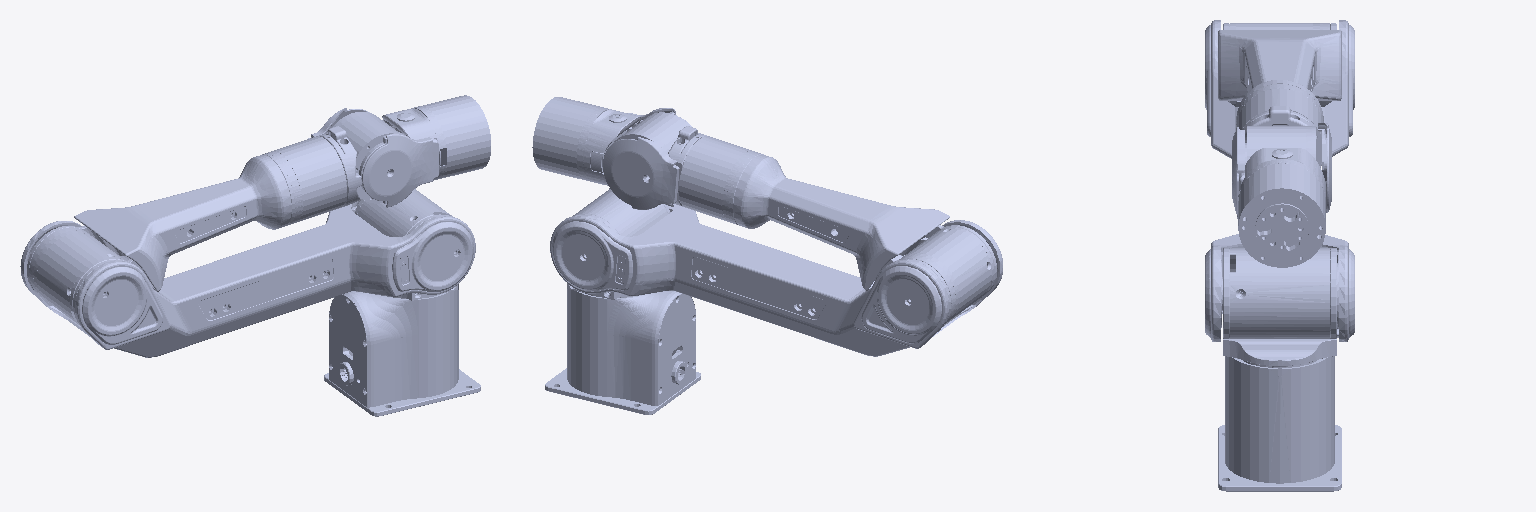
The robot description file, URDF, robot "piper_description":
<?xml version="1.0" encoding="utf-8"?>
<robot
  name="piper_description">
  <link
    name="base_link">
    <!-- <inertial>
      <origin
        xyz="-0.00973928490005031 1.8312708928633E-06 0.0410140167677137"
        rpy="0 0 0" />
      <mass
        value="0.162352169522719" />
      <inertia
        ixx="0.000226592553127906"
        ixy="-7.33974356968813E-08"
        ixz="2.13221970218123E-06"
        iyy="0.000269447877479622"
        iyz="8.15167478685076E-09"
        izz="0.000222318286704" />
    </inertial> -->
    <visual>
      <origin
        xyz="0 0 0"
        rpy="0 0 0" />
      <geometry>
        <mesh
          filename="package://piper_description/meshes/base_link.STL" />
      </geometry>
      <material
        name="">
        <color
          rgba="0.792156862745098 0.819607843137255 0.933333333333333 1" />
      </material>
    </visual>
    <collision>
      <origin
        xyz="0 0 0"
        rpy="0 0 0" />
      <geometry>
        <mesh
          filename="package://piper_description/meshes/base_link.STL" />
      </geometry>
    </collision>
  </link>
  <link
    name="link1">
    <inertial>
      <origin
        xyz="0.00131676031927021 0.000310288842008364 -0.00922874512303438"
        rpy="0 0 0" />
      <mass
        value="0.0978679932242825" />
      <inertia
        ixx="7.76684558296781E-05"
        ixy="1.09084650459916E-07"
        ixz="-1.97480532432411E-06"
        iyy="9.24967780161546E-05"
        iyz="9.91284646834672E-07"
        izz="8.24589062407806E-05" />
    </inertial>
    <visual>
      <origin
        xyz="0 0 0"
        rpy="0 0 0" />
      <geometry>
        <mesh
          filename="package://piper_description/meshes/link1.STL" />
      </geometry>
      <material
        name="">
        <color
          rgba="0.792156862745098 0.819607843137255 0.933333333333333 1" />
      </material>
    </visual>
    <collision>
      <origin
        xyz="0 0 0"
        rpy="0 0 0" />
      <geometry>
        <mesh
          filename="package://piper_description/meshes/link1.STL" />
      </geometry>
    </collision>
  </link>
  <joint
    name="joint1"
    type="revolute">
    <origin
      xyz="0 0 0.123"
      rpy="0 0 -1.5708" />
    <parent
      link="base_link" />
    <child
      link="link1" />
    <axis
      xyz="0 0 1" />
    <limit
      lower="-2.618"
      upper="2.618"
      effort="100"
      velocity="0" />
  </joint>
  <link
    name="link2">
    <inertial>
      <origin
        xyz="0.147615838821413 -0.0174259998251393 0.00175952516190707"
        rpy="0 0 0" />
      <mass
        value="0.289571136953082" />
      <inertia
        ixx="0.000150112628108228"
        ixy="8.58974959950769E-05"
        ixz="-1.07428153464285E-06"
        iyy="0.00172585302855383"
        iyz="-9.93704792239686E-07"
        izz="0.00177445942914759" />
    </inertial>
    <visual>
      <origin
        xyz="0 0 0"
        rpy="0 0 0" />
      <geometry>
        <mesh
          filename="package://piper_description/meshes/link2.STL" />
      </geometry>
      <material
        name="">
        <color
          rgba="0.792156862745098 0.819607843137255 0.933333333333333 1" />
      </material>
    </visual>
    <collision>
      <origin
        xyz="0 0 0"
        rpy="0 0 0" />
      <geometry>
        <mesh
          filename="package://piper_description/meshes/link2.STL" />
      </geometry>
    </collision>
  </link>
  <joint
    name="joint2"
    type="revolute">
    <origin
      xyz="0 0 0"
      rpy="1.5708 -0.10095 -1.5708" />
    <parent
      link="link1" />
    <child
      link="link2" />
    <axis
      xyz="0 0 1" />
    <limit
      lower="0"
      upper="3.14"
      effort="100"
      velocity="1" />
  </joint>
  <link
    name="link3">
    <inertial>
      <origin
        xyz="0.0156727246030052 0.104466514905741 0.000508486764144372"
        rpy="0 0 0" />
      <mass
        value="0.290583247455324" />
      <inertia
        ixx="0.000221686352136266"
        ixy="-7.57426543992343E-06"
        ixz="-6.3700062772173E-07"
        iyy="0.000100859162015934"
        iyz="-8.16202696860781E-07"
        izz="0.000241839316548946" />
    </inertial>
    <visual>
      <origin
        xyz="0 0 0"
        rpy="0 0 0" />
      <geometry>
        <mesh
          filename="package://piper_description/meshes/link3.STL" />
      </geometry>
      <material
        name="">
        <color
          rgba="0.792156862745098 0.819607843137255 0.933333333333333 1" />
      </material>
    </visual>
    <collision>
      <origin
        xyz="0 0 0"
        rpy="0 0 0" />
      <geometry>
        <mesh
          filename="package://piper_description/meshes/link3.STL" />
      </geometry>
    </collision>
  </link>
  <joint
    name="joint3"
    type="revolute">
    <origin
      xyz="0.28503 0 0"
      rpy="0 0 1.3826" />
    <parent
      link="link2" />
    <child
      link="link3" />
    <axis
      xyz="0 0 1" />
    <limit
      lower="-2.967"
      upper="0"
      effort="100"
      velocity="1" />
  </joint>
  <link
    name="link4">
    <inertial>
      <origin
        xyz="0.000276464622388145 -0.00102803669324853 -0.00472830700561612"
        rpy="0 0 0" />
      <mass
        value="0.127087348341362" />
      <inertia
        ixx="3.82011730423098E-05"
        ixy="-4.92358351033589E-08"
        ixz="4.89589432983109E-08"
        iyy="4.87048555222491E-05"
        iyz="6.70802942486707E-08"
        izz="4.10592077565155E-05" />
    </inertial>
    <visual>
      <origin
        xyz="0 0 0"
        rpy="0 0 0" />
      <geometry>
        <mesh
          filename="package://piper_description/meshes/link4.STL" />
      </geometry>
      <material
        name="">
        <color
          rgba="0.792156862745098 0.819607843137255 0.933333333333333 1" />
      </material>
    </visual>
    <collision>
      <origin
        xyz="0 0 0"
        rpy="0 0 0" />
      <geometry>
        <mesh
          filename="package://piper_description/meshes/link4.STL" />
      </geometry>
    </collision>
  </link>
  <joint
    name="joint4"
    type="revolute">
    <origin
      xyz="0.021984 0.25075 0"
      rpy="-1.5708 0 0" />
    <parent
      link="link3" />
    <child
      link="link4" />
    <axis
      xyz="0 0 -1" />
    <limit
      lower="-1.832"
      upper="1.832"
      effort="100"
      velocity="1" />
  </joint>
  <link
    name="link5">
    <inertial>
      <origin
        xyz="8.82261259100015E-05 0.056682908434204 -0.00196119077436732"
        rpy="0 0 0" />
      <mass
        value="0.144711209371719" />
      <inertia
        ixx="4.39644269159173E-05"
        ixy="-3.59214840853815E-08"
        ixz="-1.89785003257649E-08"
        iyy="5.63173857792457E-05"
        iyz="-2.15407623722543E-07"
        izz="4.88713595021005E-05" />
    </inertial>
    <visual>
      <origin
        xyz="0 0 0"
        rpy="0 0 0" />
      <geometry>
        <mesh
          filename="package://piper_description/meshes/link5.STL" />
      </geometry>
      <material
        name="">
        <color
          rgba="0.792156862745098 0.819607843137255 0.933333333333333 1" />
      </material>
    </visual>
    <collision>
      <origin
        xyz="0 0 0"
        rpy="0 0 0" />
      <geometry>
        <mesh
          filename="package://piper_description/meshes/link5.STL" />
      </geometry>
    </collision>
  </link>
  <joint
    name="joint5"
    type="revolute">
    <origin
      xyz="0 0 0"
      rpy="1.5708 -0.087266 0" />
    <parent
      link="link4" />
    <child
      link="link5" />
    <axis
      xyz="0 0 1" />
    <limit
      lower="-1.22"
      upper="1.22"
      effort="100"
      velocity="1" />
  </joint>
  <link
    name="link6">
    <inertial>
      <origin
        xyz="9.41121070072333E-09 0.000341209775988838 0.0342122921883722"
        rpy="0 0 0" />
      <mass
        value="0.150196458571266" />
      <inertia
        ixx="4.31750564711759E-05"
        ixy="-2.21295720427027E-08"
        ixz="-3.27825836857102E-12"
        iyy="9.99756357365307E-05"
        iyz="1.10337380549335E-07"
        izz="0.000118282295533688" />
    </inertial>
    <visual>
      <origin
        xyz="0 0 0"
        rpy="0 0 0" />
      <geometry>
        <mesh
          filename="package://piper_description/meshes/link6.STL" />
      </geometry>
      <material
        name="">
        <color
          rgba="0.792156862745098 0.819607843137255 0.933333333333333 1" />
      </material>
    </visual>
    <collision>
      <origin
        xyz="0 0 0"
        rpy="0 0 0" />
      <geometry>
        <mesh
          filename="package://piper_description/meshes/link6.STL" />
      </geometry>
    </collision>
  </link>
  <joint
    name="joint6"
    type="revolute">
    <origin
      xyz="0 0.091 0.0014165"
      rpy="-1.5708 -1.5708 0" />
    <parent
      link="link5" />
    <child
      link="link6" />
    <axis
      xyz="0 0 -1" />
    <limit
      lower="-3.14"
      upper="3.14"
      effort="100"
      velocity="1" />
  </joint>

  <link
    name="link7">
    <inertial>
      <origin
        xyz="-0.000277795893713934 -0.046767350270289 -0.00921029791141448"
        rpy="0 0 0" />
      <mass
        value="0.0264822500394006" />
      <inertia
        ixx="9.99782519244544E-06"
        ixy="-1.57547595978589E-07"
        ixz="-2.71355785017816E-08"
        iyy="6.17952364356547E-06"
        iyz="-1.58939504838734E-06"
        izz="1.42102253390315E-05" />
    </inertial>
    <visual>
      <origin
        xyz="0 0 0"
        rpy="0 0 0" />
      <geometry>
        <mesh
          filename="package://piper_description/meshes/link7.STL" />
      </geometry>
      <material
        name="">
        <color
          rgba="0.792156862745098 0.819607843137255 0.933333333333333 1" />
      </material>
    </visual>
    <collision>
      <origin
        xyz="0 0 0"
        rpy="0 0 0" />
      <geometry>
        <mesh
          filename="package://piper_description/meshes/link7.STL" />
      </geometry>
    </collision>
  </link>
  <joint
    name="joint7"
    type="prismatic">
    <origin
      xyz="0 0 0.13503"
      rpy="1.5708 0 1.5708" />
    <parent
      link="link6" />
    <child
      link="link7" />
    <axis
      xyz="0 0 -1" />
    <limit
      lower="-0.038"
      upper="0"
      effort="100"
      velocity="1" />
  </joint>

  <link
    name="link8">
    <inertial>
      <origin
        xyz="0.000277795911672651 0.0467673513153836 -0.00921029799058583"
        rpy="0 0 0" />
      <mass
        value="0.0264822490707451" />
      <inertia
        ixx="9.99782474142963E-06"
        ixy="-1.57547666236405E-07"
        ixz="2.71355834243046E-08"
        iyy="6.17952362333486E-06"
        iyz="1.58939503259658E-06"
        izz="1.42102248648757E-05" />
    </inertial>
    <visual>
      <origin
        xyz="0 0 0"
        rpy="0 0 0" />
      <geometry>
        <mesh
          filename="package://piper_description/meshes/link8.STL" />
      </geometry>
      <material
        name="">
        <color
          rgba="0.792156862745098 0.819607843137255 0.933333333333333 1" />
      </material>
    </visual>
    <collision>
      <origin
        xyz="0 0 0"
        rpy="0 0 0" />
      <geometry>
        <mesh
          filename="package://piper_description/meshes/link8.STL" />
      </geometry>
    </collision>
  </link>
  <joint
    name="joint8"
    type="prismatic">
    <origin
      xyz="0 0 0.13503"
      rpy="-1.5708 0 1.5708" />
    <parent
      link="link6" />
    <child
      link="link8" />
    <axis
      xyz="0 0 1" />
    <limit
      lower="0"
      upper="0.038"
      effort="100"
      velocity="1" />
  </joint>
  <!-- <link
    name="link8">
    <inertial>
      <origin
        xyz="-0.000277795893713934 -0.046767350270289 -0.00921029791141448"
        rpy="0 0 0" />
      <mass
        value="0.0264822500394006" />
      <inertia
        ixx="9.99782519244544E-06"
        ixy="-1.57547595978589E-07"
        ixz="-2.71355785017816E-08"
        iyy="6.17952364356547E-06"
        iyz="-1.58939504838734E-06"
        izz="1.42102253390315E-05" />
    </inertial>
    <visual>
      <origin
        xyz="0 0 0"
        rpy="0 0 0" />
      <geometry>
        <mesh
          filename="package://piper_description/meshes/link8.STL" />
      </geometry>
      <material
        name="">
        <color
          rgba="0.792156862745098 0.819607843137255 0.933333333333333 1" />
      </material>
    </visual>
    <collision>
      <origin
        xyz="0 0 0"
        rpy="0 0 0" />
      <geometry>
        <mesh
          filename="package://piper_description/meshes/link8.STL" />
      </geometry>
    </collision>
  </link>
  <joint
    name="joint8"
    type="prismatic">
    <origin
      xyz="-0.037167 0 0.13503"
      rpy="1.5708 0 1.5708" />
    <parent
      link="link6" />
    <child
      link="link8" />
    <axis
      xyz="0 0 -1" />
    <limit
      lower="-0.038"
      upper="0"
      effort="100"
      velocity="1" />
  </joint> -->
</robot>

--- Facts derived from the render (not from the file) ---
Views: 3 orthographic renders of the robot side by side, from view 1: azimuth 30°, elevation 25°; view 2: azimuth 150°, elevation 25°; view 3: azimuth 270°, elevation 25°.
Model piper_description with 9 links and 8 joints (6 revolute, 2 prismatic), rooted at base_link, posed all joints at 0.
Visible links, largest first — view 1: link2, link3, base_link, link5, link4, link1; view 2: link2, link3, base_link, link4, link5, link1; view 3: base_link, link1, link3, link5, link2, link4.
Boxes of the visible links, bbox=[...] form: link2: bbox=[20, 188, 475, 357]; link3: bbox=[27, 136, 346, 324]; base_link: bbox=[324, 290, 480, 416]; link5: bbox=[359, 95, 490, 207]; link4: bbox=[308, 108, 398, 207]; link1: bbox=[355, 189, 458, 300]; link2: bbox=[550, 188, 1002, 356]; link3: bbox=[678, 136, 996, 323]; base_link: bbox=[545, 289, 700, 414]; link4: bbox=[603, 112, 706, 209]; link5: bbox=[532, 97, 691, 185]; link1: bbox=[567, 189, 670, 299]; base_link: bbox=[1218, 356, 1341, 491]; link1: bbox=[1223, 248, 1338, 367]; link3: bbox=[1218, 23, 1341, 165]; link5: bbox=[1232, 127, 1325, 267]; link2: bbox=[1205, 20, 1354, 341]; link4: bbox=[1242, 106, 1331, 212].
Size in the robot's own frame: 0.3704 by 0.097 by 0.2262 metres.
Meshes: 9 distinct files referenced, 6 mesh visuals loaded (6 binary STL); not drawn: 3 (reference not matched to a file when rendering).